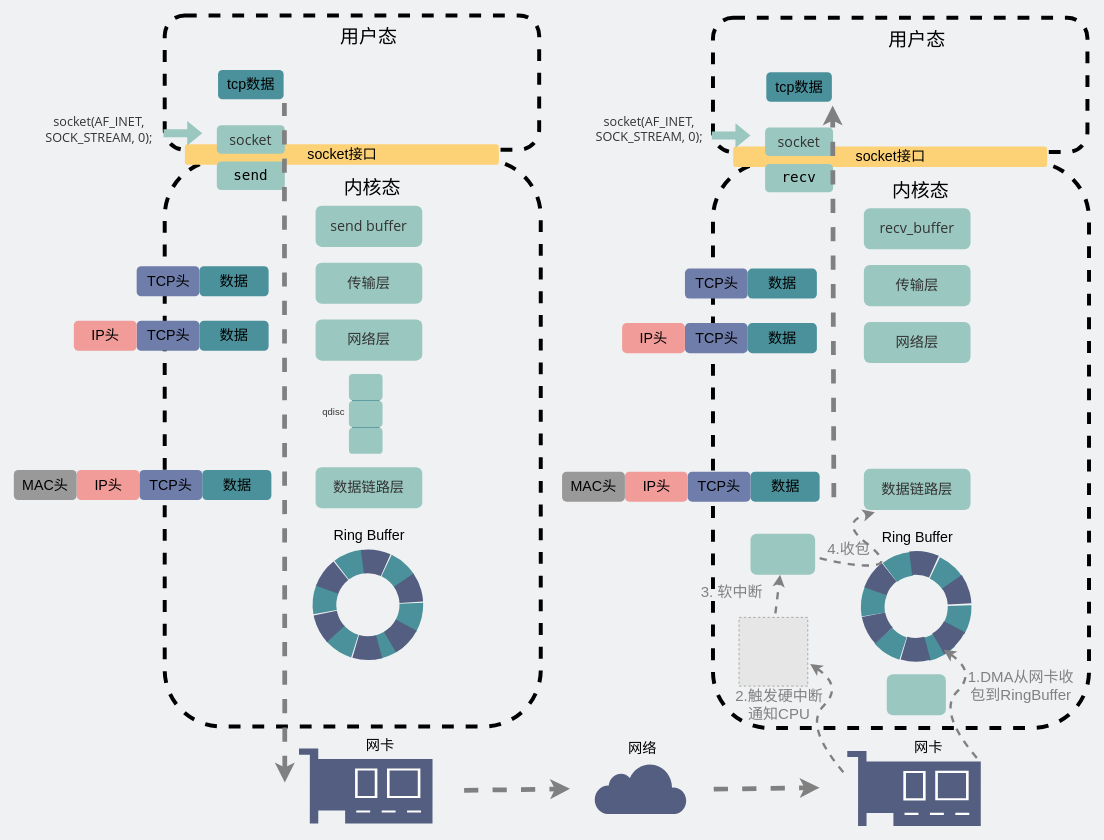
This 1104x840 diagram has some shape labels left out. Grey dashed boxes stand in for pictures. Each missing label, with the centre of its shape:
DMA: point (915, 694)
ksoftirqd: point (782, 553)
